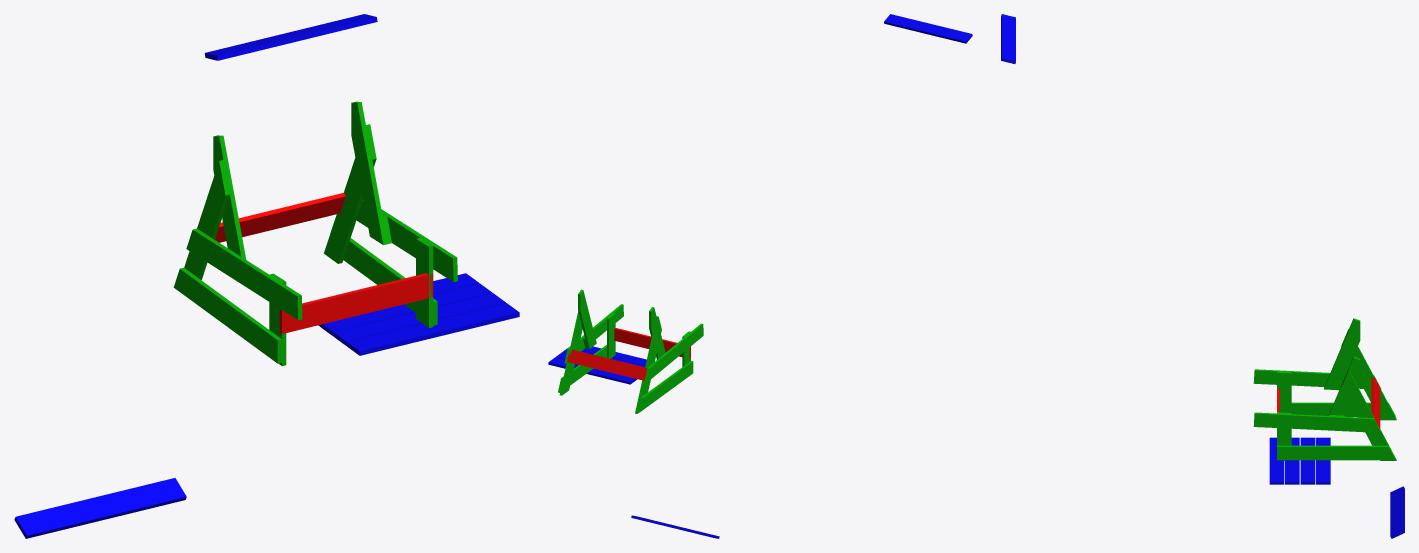
Rendered from result.glb.
3 views of the same model, side by side, from view 1: azimuth 30°, elevation 25°; view 2: azimuth 150°, elevation 25°; view 3: azimuth 270°, elevation 25° (orthographic). The views are drawn at different scales.
Parts seen in each view (by area): view 1: 9c722be1-12b1-4d58-a7d0-01747c15500e__Box_7, 305a87b8-d899-4a22-8c9d-eaa066acd85a__Plane_1, c0eaaa18-e270-4553-baa5-c7c1badaafa3__undefined, c6ce6187-f9ba-4c00-9a33-acc9f8cf9042__undefined, d643d9c7-f374-473d-a734-69ddbeb56a16__undefined (×2), ea2330c4-c298-44e3-a795-c100360a0291__Box_5, 60f86211-efb6-4a67-9c64-5d30ae7de3a2__undefined, f686b46d-f46d-4120-921e-94fc501f90fe__Plane_2, 0ff53d9c-34a3-4de7-a233-6906d2fe145c__Box_1, 408ad0d4-6f93-4998-af98-7e1312dcebdc__Box_4, 3366424a-b1d7-4546-acd1-749dfb95484e__undefined, e36d534a-6cba-45eb-a2fa-514724eec47f__undefined (+4 smaller); view 2: f686b46d-f46d-4120-921e-94fc501f90fe__Plane_2, 408ad0d4-6f93-4998-af98-7e1312dcebdc__Box_4, c0eaaa18-e270-4553-baa5-c7c1badaafa3__undefined, c6ce6187-f9ba-4c00-9a33-acc9f8cf9042__undefined, 305a87b8-d899-4a22-8c9d-eaa066acd85a__Plane_1, 3366424a-b1d7-4546-acd1-749dfb95484e__undefined, 60f86211-efb6-4a67-9c64-5d30ae7de3a2__undefined, d643d9c7-f374-473d-a734-69ddbeb56a16__undefined, cb655084-b708-44a2-a0ee-c2b4fbf93b7b__Box_3; view 3: e36d534a-6cba-45eb-a2fa-514724eec47f__undefined, 21e9decb-77cf-422a-8a2c-4b44e69538db__Plane, d643d9c7-f374-473d-a734-69ddbeb56a16__undefined (×2), 0455b3f8-00a9-487f-b314-a4a6598c6835__undefined, c0eaaa18-e270-4553-baa5-c7c1badaafa3__undefined, 3366424a-b1d7-4546-acd1-749dfb95484e__undefined, 9c722be1-12b1-4d58-a7d0-01747c15500e__Box_7, 408ad0d4-6f93-4998-af98-7e1312dcebdc__Box_4, c6ce6187-f9ba-4c00-9a33-acc9f8cf9042__undefined, 60f86211-efb6-4a67-9c64-5d30ae7de3a2__undefined, ea2330c4-c298-44e3-a795-c100360a0291__Box_5, caca4b10-90ab-4400-aea1-1cfc35ba26c1__undefined (+2 smaller).
Boxes of the visible parts, x1=… form: 9c722be1-12b1-4d58-a7d0-01747c15500e__Box_7: x1=14, y1=478, x2=186, y2=538; 305a87b8-d899-4a22-8c9d-eaa066acd85a__Plane_1: x1=279, y1=273, x2=433, y2=333; c0eaaa18-e270-4553-baa5-c7c1badaafa3__undefined: x1=186, y1=228, x2=302, y2=320; c6ce6187-f9ba-4c00-9a33-acc9f8cf9042__undefined: x1=173, y1=267, x2=281, y2=363; d643d9c7-f374-473d-a734-69ddbeb56a16__undefined (×2): x1=324, y1=124, x2=376, y2=263; ea2330c4-c298-44e3-a795-c100360a0291__Box_5: x1=347, y1=303, x2=519, y2=355; 60f86211-efb6-4a67-9c64-5d30ae7de3a2__undefined: x1=351, y1=101, x2=387, y2=245; f686b46d-f46d-4120-921e-94fc501f90fe__Plane_2: x1=215, y1=193, x2=345, y2=242; 0ff53d9c-34a3-4de7-a233-6906d2fe145c__Box_1: x1=333, y1=293, x2=505, y2=345; 408ad0d4-6f93-4998-af98-7e1312dcebdc__Box_4: x1=204, y1=14, x2=377, y2=60; 3366424a-b1d7-4546-acd1-749dfb95484e__undefined: x1=184, y1=160, x2=229, y2=279; e36d534a-6cba-45eb-a2fa-514724eec47f__undefined: x1=356, y1=200, x2=457, y2=282; f686b46d-f46d-4120-921e-94fc501f90fe__Plane_2: x1=567, y1=349, x2=647, y2=380; 408ad0d4-6f93-4998-af98-7e1312dcebdc__Box_4: x1=884, y1=14, x2=972, y2=43; c0eaaa18-e270-4553-baa5-c7c1badaafa3__undefined: x1=644, y1=323, x2=703, y2=382; c6ce6187-f9ba-4c00-9a33-acc9f8cf9042__undefined: x1=637, y1=361, x2=693, y2=412; 305a87b8-d899-4a22-8c9d-eaa066acd85a__Plane_1: x1=614, y1=328, x2=690, y2=358; 3366424a-b1d7-4546-acd1-749dfb95484e__undefined: x1=635, y1=316, x2=661, y2=413; 60f86211-efb6-4a67-9c64-5d30ae7de3a2__undefined: x1=578, y1=289, x2=596, y2=348; d643d9c7-f374-473d-a734-69ddbeb56a16__undefined: x1=559, y1=312, x2=582, y2=395; cb655084-b708-44a2-a0ee-c2b4fbf93b7b__Box_3: x1=548, y1=357, x2=636, y2=384; e36d534a-6cba-45eb-a2fa-514724eec47f__undefined: x1=1253, y1=412, x2=1381, y2=432; 21e9decb-77cf-422a-8a2c-4b44e69538db__Plane: x1=1277, y1=445, x2=1395, y2=460; d643d9c7-f374-473d-a734-69ddbeb56a16__undefined (×2): x1=1341, y1=369, x2=1396, y2=460; 0455b3f8-00a9-487f-b314-a4a6598c6835__undefined: x1=1324, y1=318, x2=1360, y2=390; c0eaaa18-e270-4553-baa5-c7c1badaafa3__undefined: x1=1253, y1=369, x2=1381, y2=389; 3366424a-b1d7-4546-acd1-749dfb95484e__undefined: x1=1341, y1=329, x2=1396, y2=420; 9c722be1-12b1-4d58-a7d0-01747c15500e__Box_7: x1=1390, y1=486, x2=1404, y2=538; 408ad0d4-6f93-4998-af98-7e1312dcebdc__Box_4: x1=1001, y1=14, x2=1015, y2=63; c6ce6187-f9ba-4c00-9a33-acc9f8cf9042__undefined: x1=1291, y1=402, x2=1395, y2=416; 60f86211-efb6-4a67-9c64-5d30ae7de3a2__undefined: x1=1328, y1=356, x2=1360, y2=415; ea2330c4-c298-44e3-a795-c100360a0291__Box_5: x1=1269, y1=437, x2=1284, y2=484; caca4b10-90ab-4400-aea1-1cfc35ba26c1__undefined: x1=1277, y1=371, x2=1291, y2=412.
Size of the model in its own units: 2358 by 3230 by 2694.
